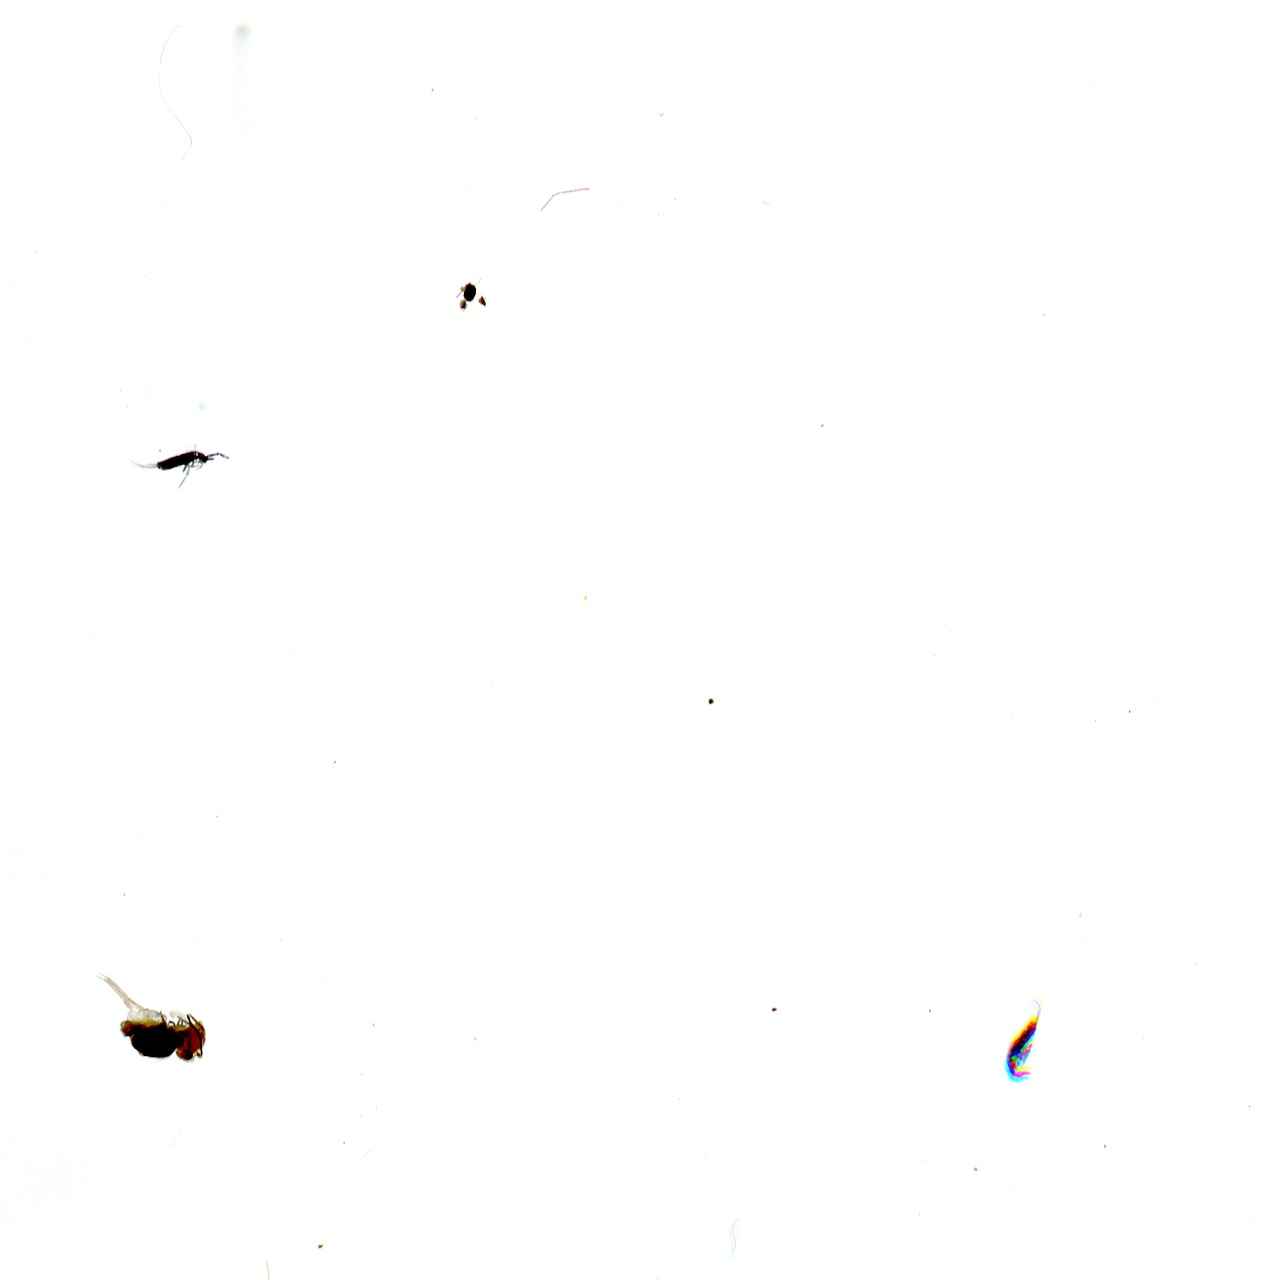arthropod: (90, 967, 210, 1064), (123, 442, 236, 492), (1000, 989, 1047, 1087)
